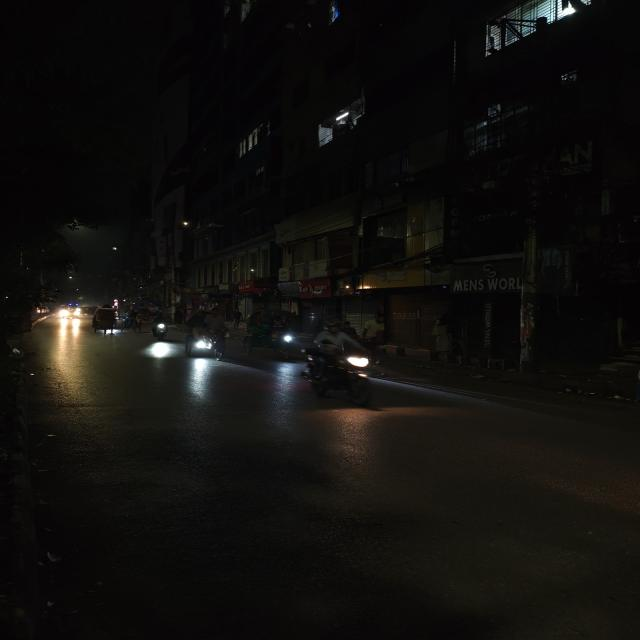motorcycle: (296, 321, 383, 407), (148, 312, 172, 343)
rickshaw: (239, 306, 306, 358), (180, 308, 231, 362), (88, 306, 123, 336), (120, 308, 147, 336)
